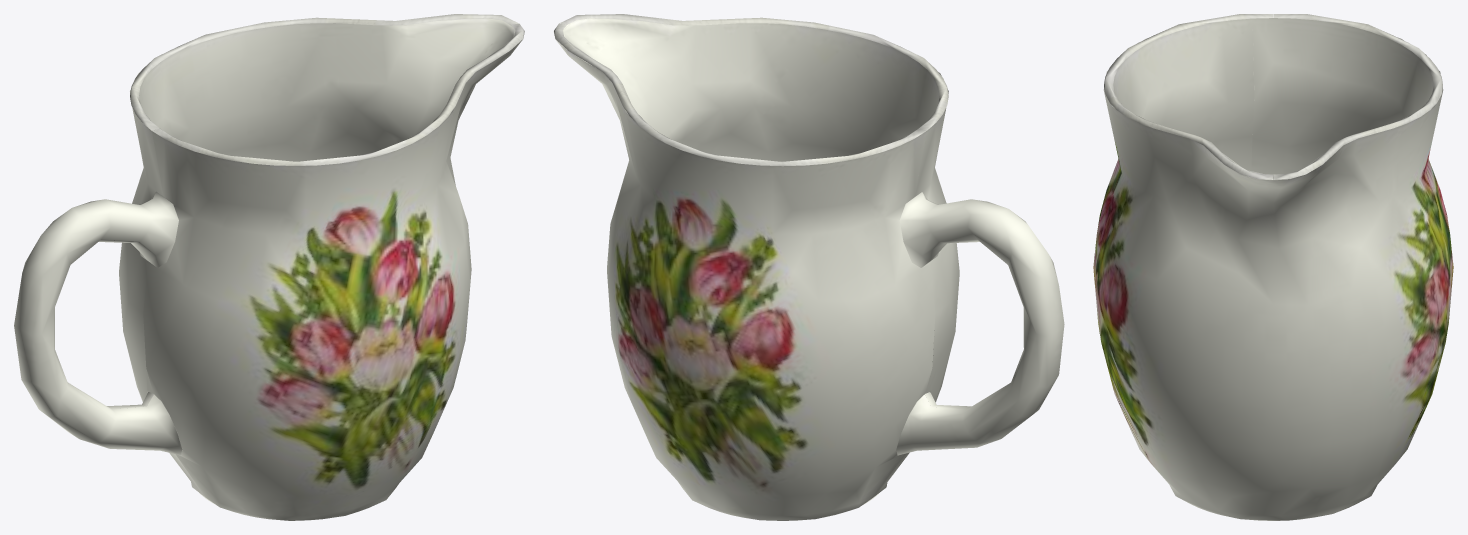
File: jug_01.glb
3 views of the same model, side by side, from view 1: azimuth 30°, elevation 25°; view 2: azimuth 150°, elevation 25°; view 3: azimuth 270°, elevation 25° (orthographic). The views are drawn at different scales.
Visible parts, largest first — view 1: jug_01; view 2: jug_01; view 3: jug_01.
Boxes of the visible parts, x1,y1,x2,y2 form: jug_01: (14,14,524,520); jug_01: (553,14,1064,520); jug_01: (1093,14,1453,520).
Bounding box in the file's own units: 0.276 × 0.2112 × 0.1679.
1 material, 1 textured.
